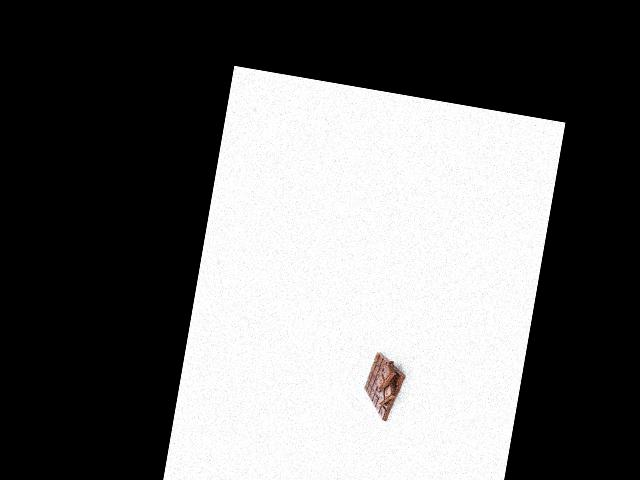chocolate: (355, 349, 411, 424)
